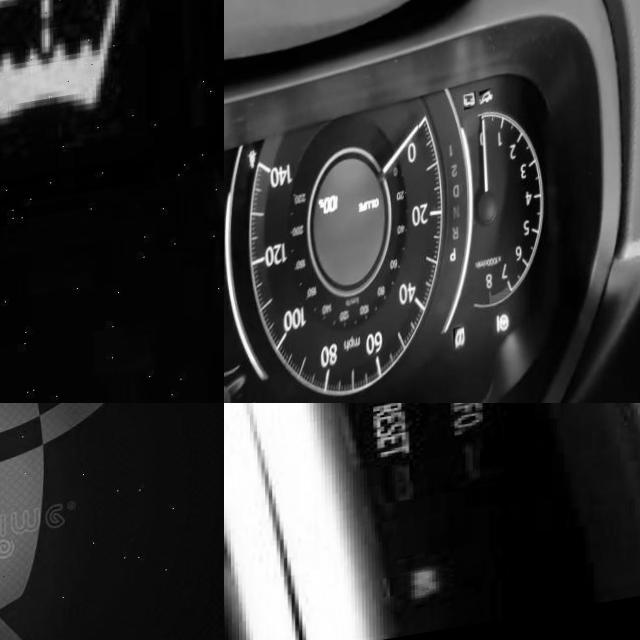Seat Belt: (0, 403, 114, 640)
Washer Fluid: (0, 0, 123, 141)
